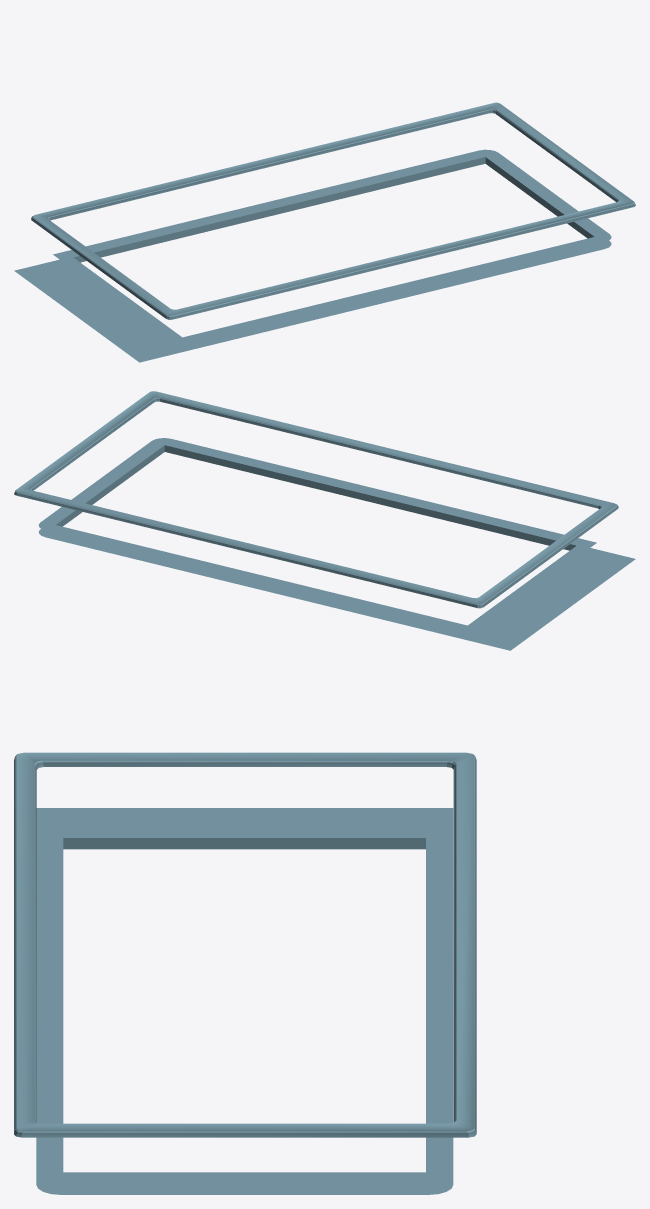
File: DoormeshMicrowaveDoorB4_1_GeomSubset_1.obj
3 renders of one model, top to bottom at view 1: azimuth 30°, elevation 25°; view 2: azimuth 150°, elevation 25°; view 3: azimuth 270°, elevation 25°, orthographic. The views are drawn at different scales.
Parts seen in each view (by area): view 1: DoormeshMicrowaveDoorB4_1_GeomSubset_1; view 2: DoormeshMicrowaveDoorB4_1_GeomSubset_1; view 3: DoormeshMicrowaveDoorB4_1_GeomSubset_1.
Boxes of the visible parts, x1=… form: DoormeshMicrowaveDoorB4_1_GeomSubset_1: x1=14, y1=102, x2=635, y2=362; DoormeshMicrowaveDoorB4_1_GeomSubset_1: x1=14, y1=391, x2=635, y2=650; DoormeshMicrowaveDoorB4_1_GeomSubset_1: x1=14, y1=752, x2=476, y2=1194.
Size of the model in its own units: 0.477 by 0.1576 by 0.3147.
